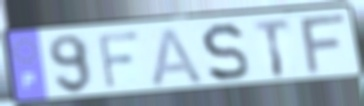9: (47, 33, 94, 96)
A: (150, 25, 207, 88)
F: (298, 11, 350, 77), (96, 30, 143, 92)
S: (199, 21, 252, 84)
T: (251, 17, 294, 79)
